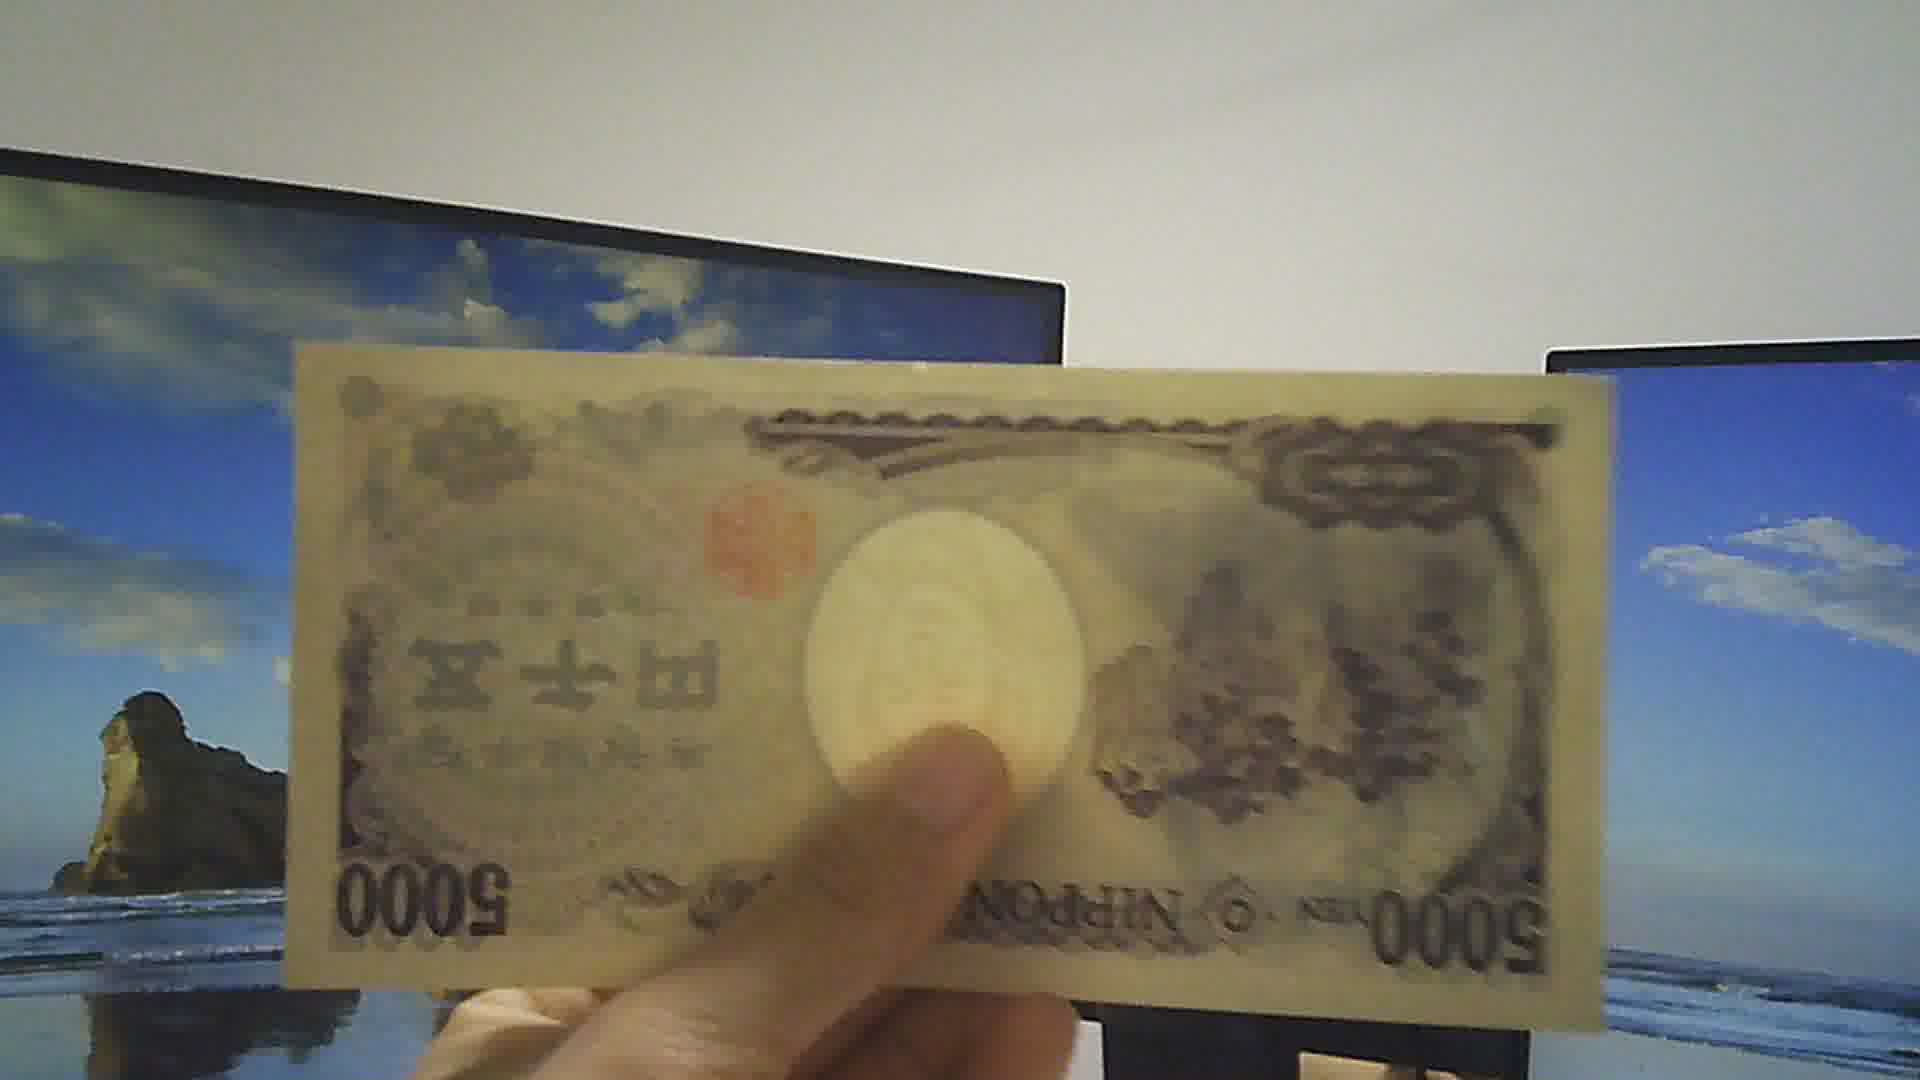5,000 Yen: (272, 332, 1617, 1023)
